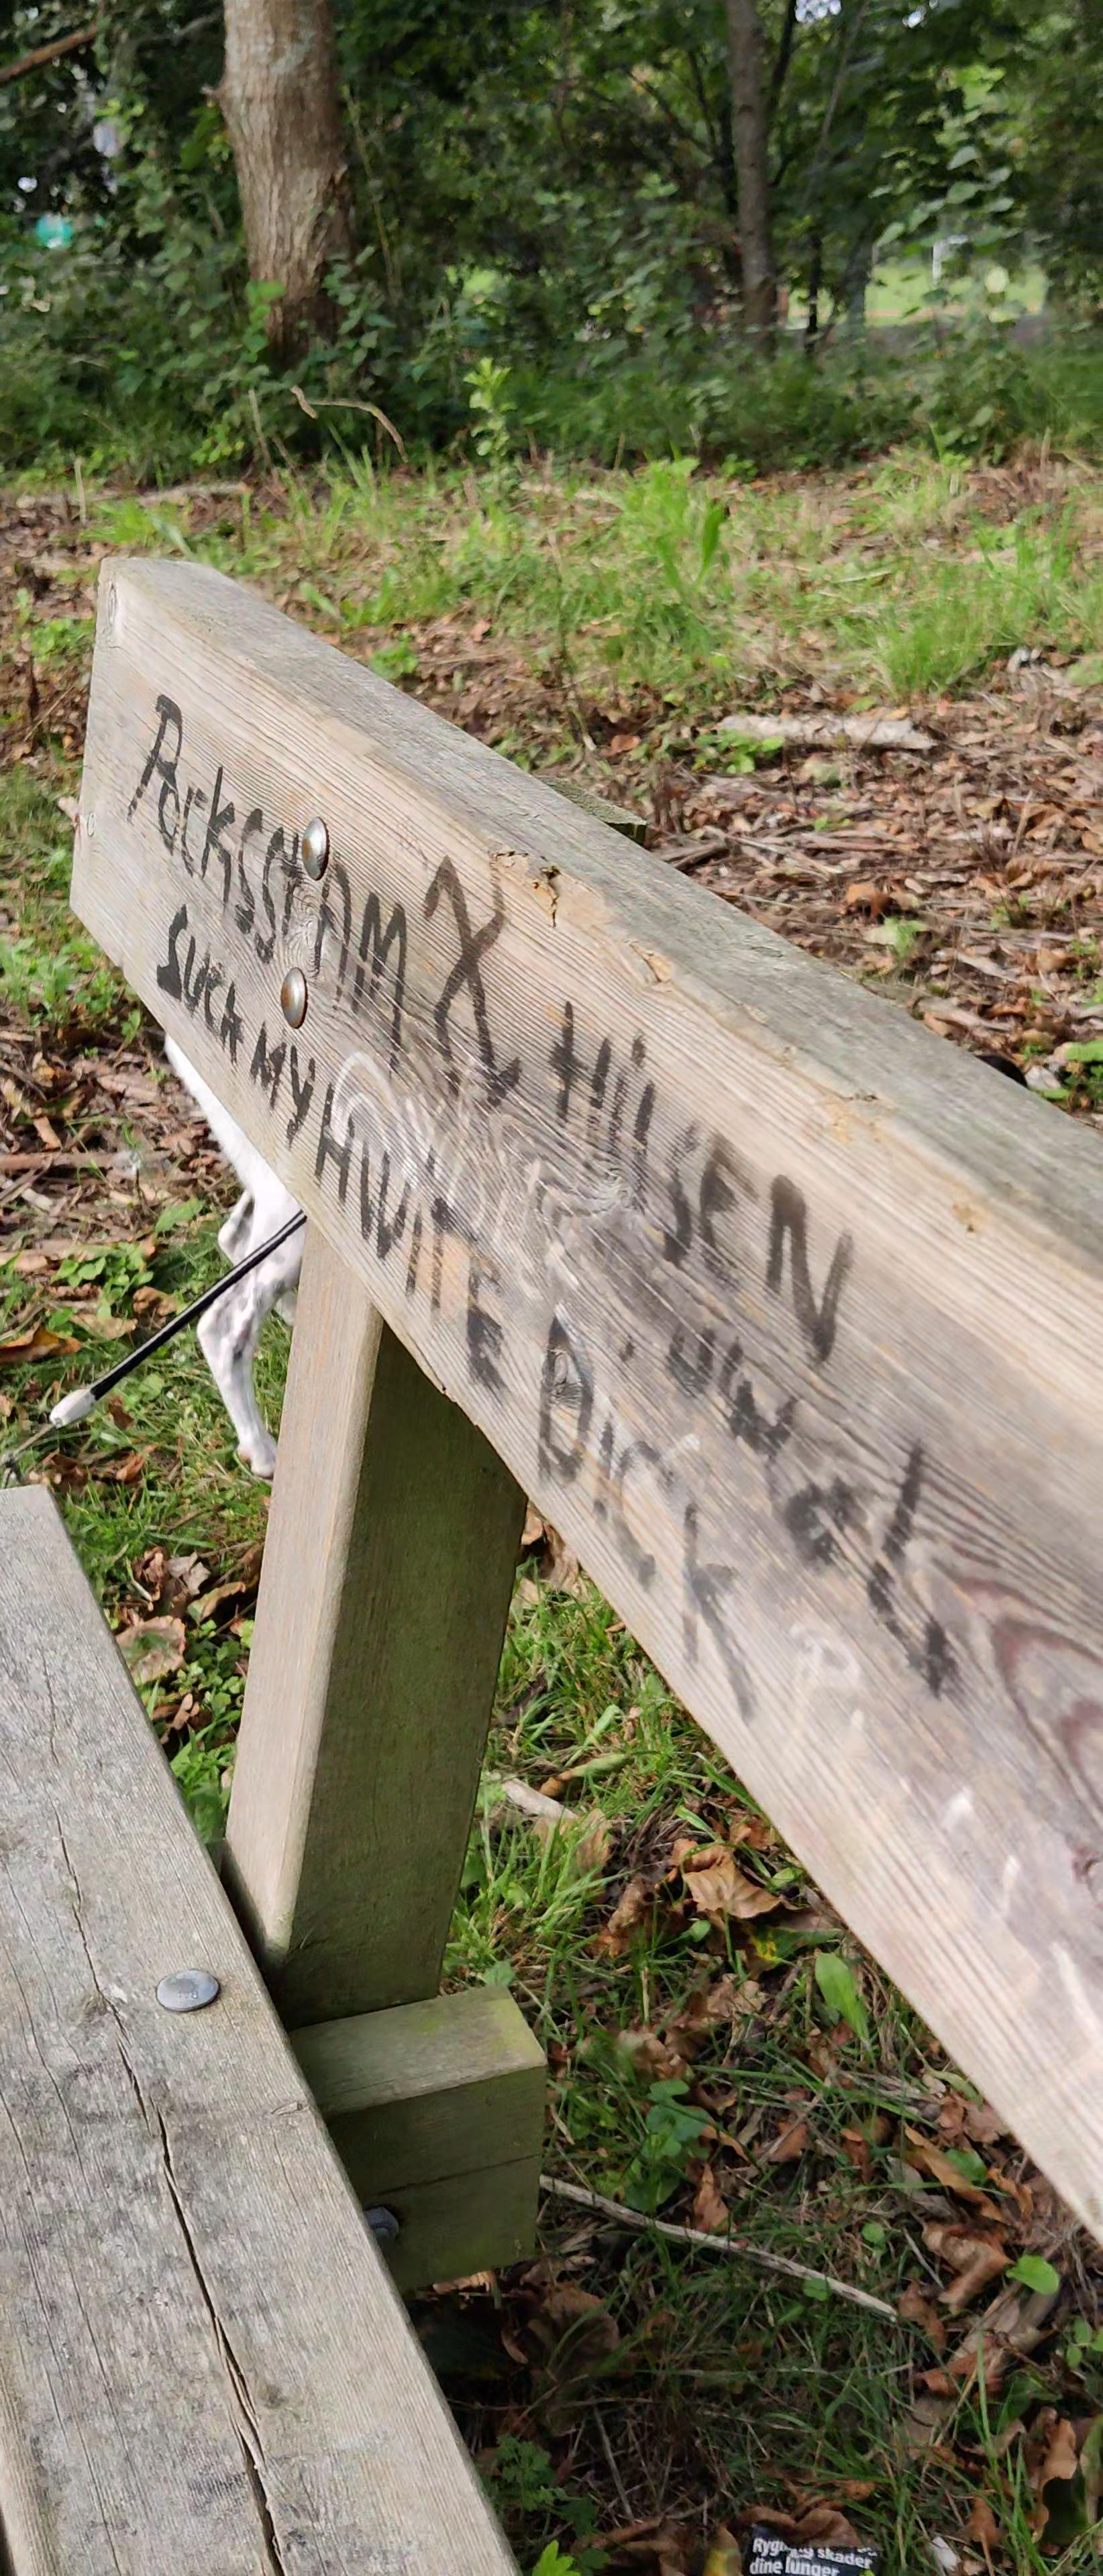Dog: (159, 1028, 322, 1488)
